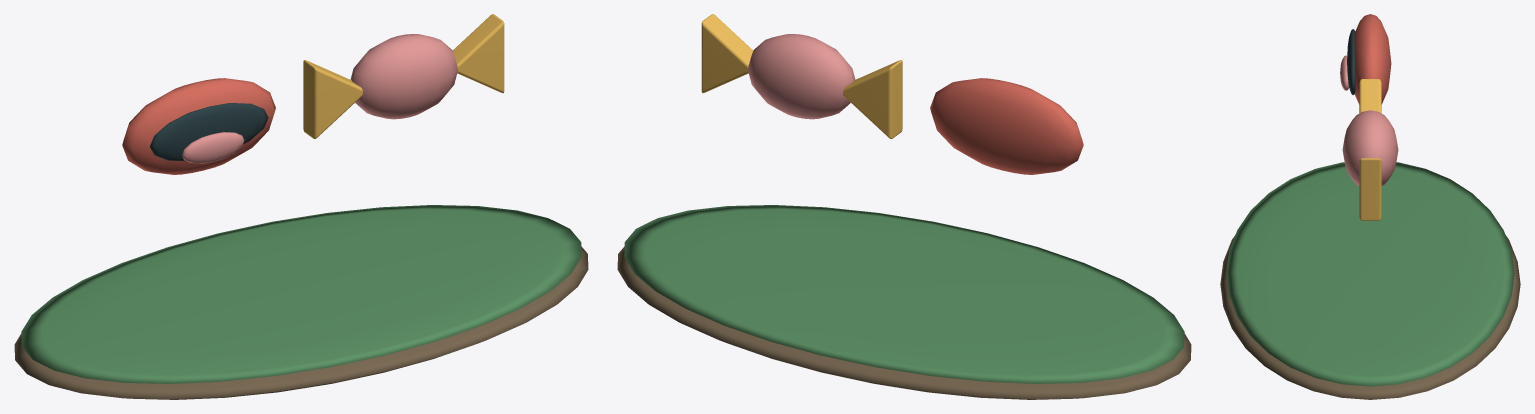
Rendered from sweet-taste.glb.
3 views of the same model, side by side, from view 1: azimuth 30°, elevation 25°; view 2: azimuth 150°, elevation 25°; view 3: azimuth 270°, elevation 25° (orthographic). The views are drawn at different scales.
Parts seen in each view (by area): view 1: sweet-taste_surface_01, sweet-taste_surface_00, sweet-taste_surface_04, sweet-taste_surface_02, sweet-taste_surface_05, sweet-taste_surface_03; view 2: sweet-taste_surface_01, sweet-taste_surface_02, sweet-taste_surface_00, sweet-taste_surface_04, sweet-taste_surface_05; view 3: sweet-taste_surface_01, sweet-taste_surface_00, sweet-taste_surface_04, sweet-taste_surface_02, sweet-taste_surface_05, sweet-taste_surface_03.
Boxes of the visible parts, bbox=[...] form: sweet-taste_surface_01: bbox=[21, 205, 581, 383]; sweet-taste_surface_00: bbox=[14, 246, 588, 399]; sweet-taste_surface_04: bbox=[182, 34, 457, 163]; sweet-taste_surface_02: bbox=[122, 78, 275, 174]; sweet-taste_surface_05: bbox=[303, 14, 504, 139]; sweet-taste_surface_03: bbox=[150, 103, 268, 161]; sweet-taste_surface_01: bbox=[624, 205, 1184, 383]; sweet-taste_surface_02: bbox=[930, 78, 1083, 174]; sweet-taste_surface_00: bbox=[617, 246, 1191, 399]; sweet-taste_surface_04: bbox=[748, 34, 855, 119]; sweet-taste_surface_05: bbox=[701, 14, 902, 139]; sweet-taste_surface_01: bbox=[1226, 162, 1514, 386]; sweet-taste_surface_00: bbox=[1220, 235, 1520, 399]; sweet-taste_surface_04: bbox=[1340, 55, 1398, 185]; sweet-taste_surface_02: bbox=[1354, 14, 1391, 104]; sweet-taste_surface_05: bbox=[1359, 79, 1381, 220]; sweet-taste_surface_03: bbox=[1347, 29, 1355, 94].
Bounding box in the file's own units: 4.56 × 2.11 × 2.5.
